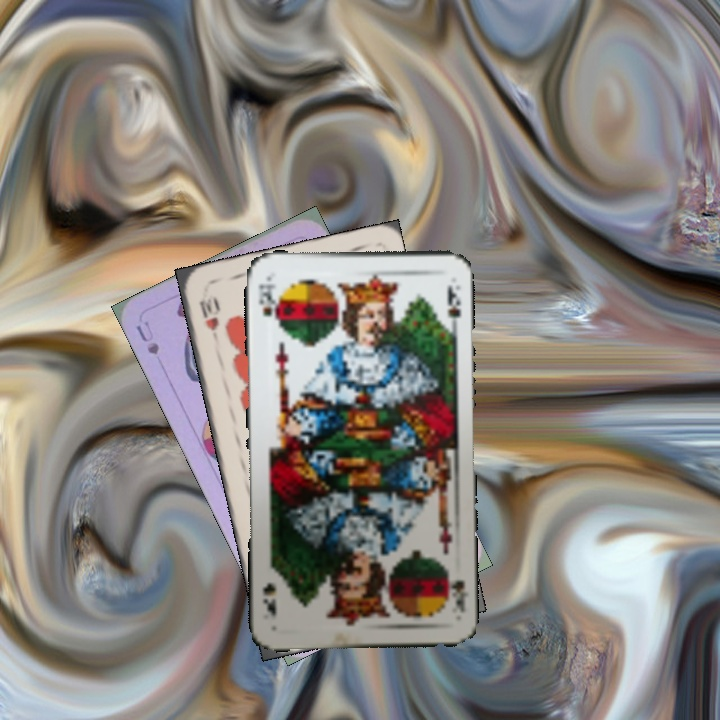H10: (195, 293, 221, 333)
SK: (442, 563, 469, 616), (254, 280, 279, 322)
SU: (132, 317, 162, 358)
